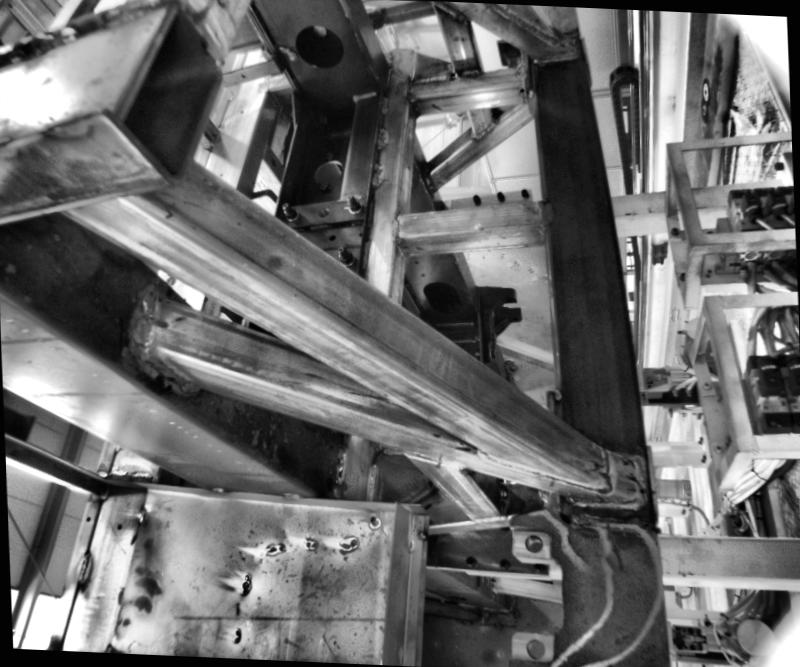bolt: (336, 245, 354, 265)
bracket: (474, 278, 526, 370)
hole: (526, 638, 546, 658), (521, 533, 542, 551), (150, 314, 172, 331), (116, 522, 125, 532), (86, 514, 92, 523), (399, 243, 408, 249)
welding: (141, 292, 171, 359), (570, 498, 657, 514), (641, 458, 654, 512), (76, 550, 94, 587), (606, 444, 617, 496), (540, 202, 556, 228), (208, 486, 230, 499), (393, 213, 401, 242), (282, 493, 306, 501), (139, 510, 148, 522)
